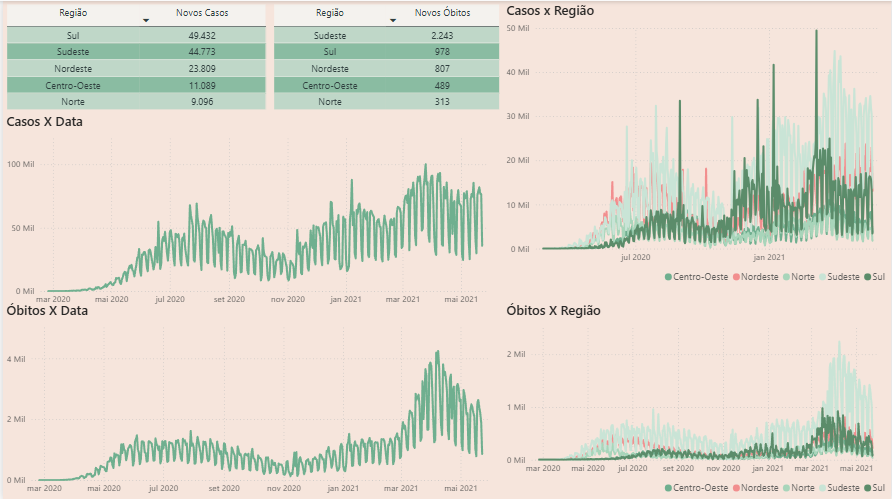

The page's visual inventory and layout, read from the dashboard file:
{"tool":"powerbi","page":{"name":"Ondas","canvas":[1280,720],"ordinal":2},"visuals":[{"type":"tableEx","title":"Ranking X Picos de Casos","fields":{"Values":["covid19 vw_picos_regiao.region","covid19 vw_picos_regiao.novos_casos"]},"box":[0,0,384,176],"z":0},{"type":"tableEx","title":"Ranking X Picos de Óbitos","fields":{"Values":["covid19 vw_picos_regiao.region","Sum(covid19 vw_picos_regiao.novos_obitos)"]},"box":[384,0,336,176],"z":1000},{"type":"areaChart","title":"Casos X Data","fields":{"Y":["Sum(covid19 vw_fato_covid.novos_casos)"],"Category":["covid19 vw_fato_covid.date"]},"box":[0,160,720,288],"z":2000},{"type":"areaChart","title":"Óbitos X Data","fields":{"Category":["covid19 vw_fato_covid.date"],"Y":["Sum(covid19 vw_fato_covid.novos_obitos)"]},"box":[0,432,720,288],"z":3000},{"type":"lineChart","title":"Casos x Região","fields":{"Y":["Sum(covid19 vw_picos_regiao.novos_casos)"],"Series":["covid19 vw_picos_regiao.region"],"Category":["covid19 vw_picos_regiao.date.Variation.Hierarquia de datas.Ano"]},"box":[720,0,560,416],"z":4000},{"type":"lineChart","title":"Óbitos X Região","fields":{"Y":["Sum(covid19 vw_picos_regiao.novos_obitos)"],"Series":["covid19 vw_picos_regiao.region"],"Category":["covid19 vw_picos_regiao.date.Variation.Hierarquia de datas.Ano"]},"box":[720,432,560,288],"z":5000}]}

Visuals, with their boxes in screenshot pixels (x1, y1, x2, y2), scaled from the page's 1280x720 canvas onto the 892x499 screenshot:
"Ranking X Picos de Casos" tableEx: Rect(0, 0, 268, 122)
"Ranking X Picos de Óbitos" tableEx: Rect(268, 0, 502, 122)
"Casos X Data" areaChart: Rect(0, 111, 502, 310)
"Óbitos X Data" areaChart: Rect(0, 299, 502, 498)
"Casos x Região" lineChart: Rect(502, 0, 891, 288)
"Óbitos X Região" lineChart: Rect(502, 299, 891, 498)
